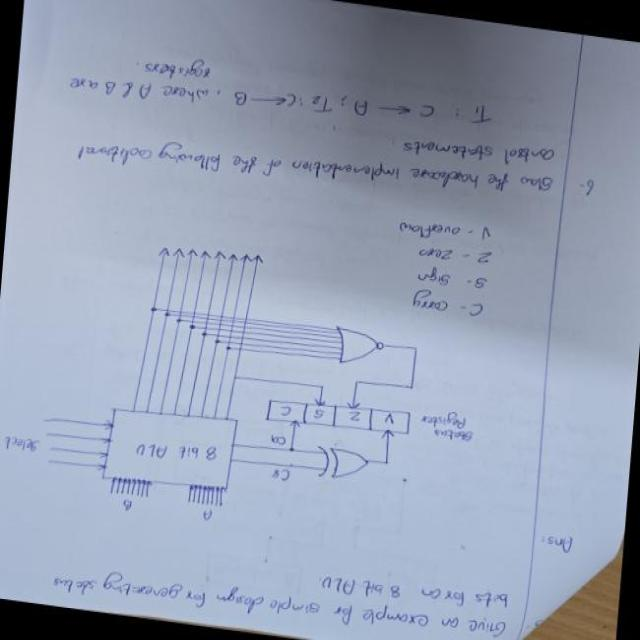Figure Detection - v3 Dataset Version2: (0, 162, 499, 560)
